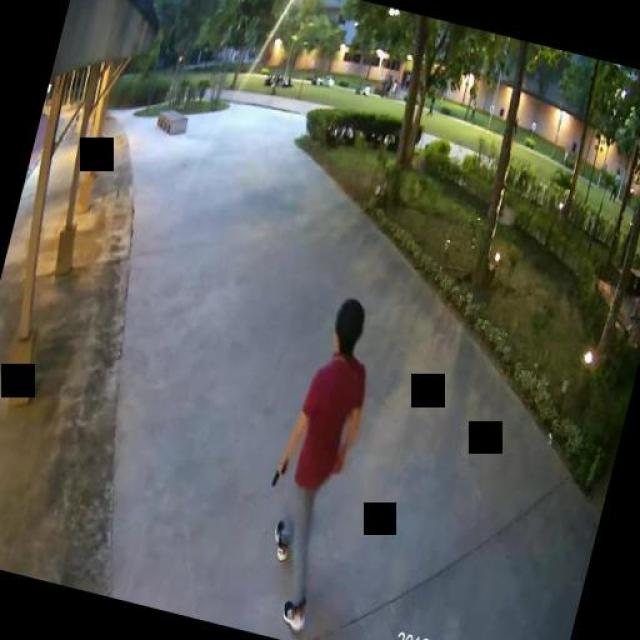gun: (270, 452, 288, 487)
